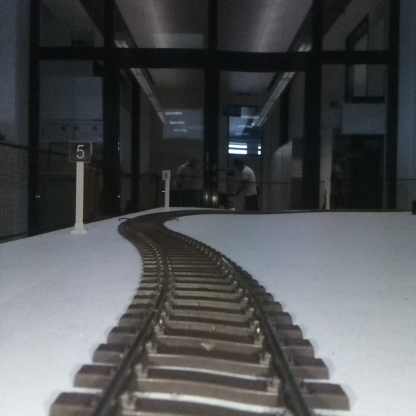black-info-5: (70, 141, 90, 232)
white-info-6: (162, 170, 170, 208)
